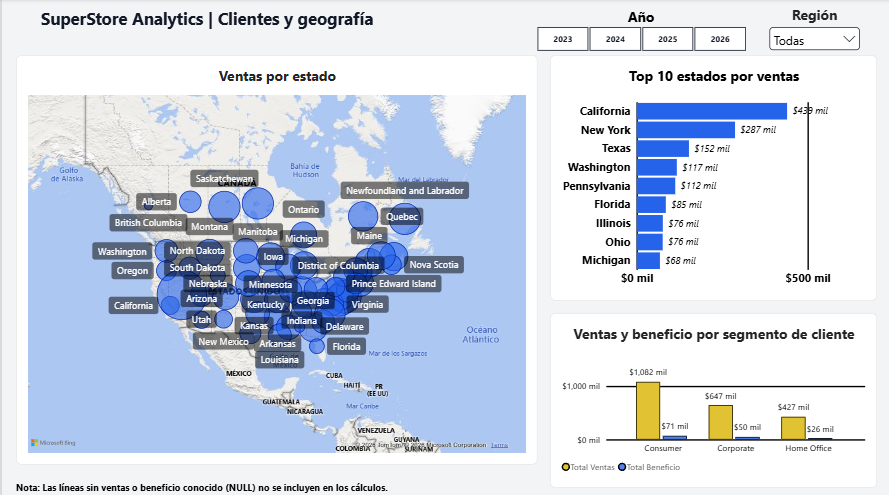

The page's visual inventory and layout, read from the dashboard file:
{"tool":"powerbi","page":{"name":"Clientes y geografía","canvas":[1280,720],"ordinal":2},"visuals":[{"type":"textbox","box":[20,12,550,56],"z":0},{"type":"slicer","title":"Año","fields":{"Values":["Calendario.Año"]},"box":[750,11.5,339.8,64.8],"z":1000},{"type":"slicer","title":"Región","fields":{"Values":["order_summary.region"]},"box":[1100,8.6,139.7,74.9],"z":2000},{"type":"textbox","box":[20,694,900,20],"z":3000},{"type":"map","title":"Ventas por estado","fields":{"Category":["sales_details.state","sales_details.country"],"Size":["sales_details.Margen %"]},"box":[20.1,80.5,750.7,589.7],"z":4000},{"type":"clusteredBarChart","title":"Top 10 estados por ventas","fields":{"Category":["sales_details.state"],"Y":["sales_details.Total Ventas"]},"box":[789.4,80.5,470.5,354.4],"z":5000},{"type":"clusteredColumnChart","title":"Ventas y beneficio por segmento de cliente","fields":{"Category":["sales_details.segment"],"Y":["sales_details.Total Ventas","sales_details.Total Beneficio"]},"box":[789.4,451.9,470.5,252.3],"z":6000}]}

Visuals, with their boxes in screenshot pixels (x1, y1, x2, y2), scaled from the page's 1280x720 canvas onto the 889x495 screenshot:
textbox: [14,8,396,47]
"Año" slicer: [521,8,757,52]
"Región" slicer: [764,6,861,57]
textbox: [14,477,639,491]
"Ventas por estado" map: [14,55,535,461]
"Top 10 estados por ventas" clusteredBarChart: [548,55,875,299]
"Ventas y beneficio por segmento de cliente" clusteredColumnChart: [548,311,875,484]
